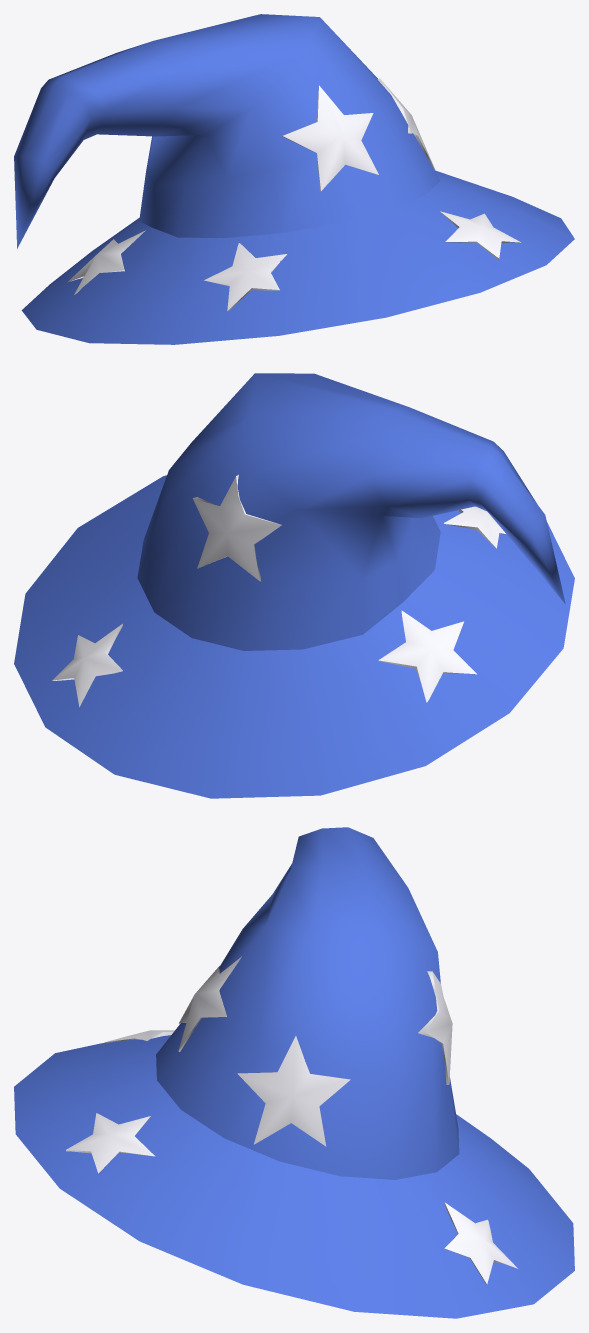
Rendered from hat_magic.fbx.
3 renders of one model, top to bottom at view 1: azimuth 30°, elevation 25°; view 2: azimuth 150°, elevation 25°; view 3: azimuth 270°, elevation 25°, orthographic. The views are drawn at different scales.
Parts seen in each view (by area): view 1: hat_magic; view 2: hat_magic; view 3: hat_magic.
Boxes of the visible parts, box(x1,y1,x2,y2) form: hat_magic: box(14, 14, 574, 344); hat_magic: box(14, 373, 574, 798); hat_magic: box(14, 827, 574, 1318).
Size of the model in its own units: 1.46 by 0.8458 by 1.31.
